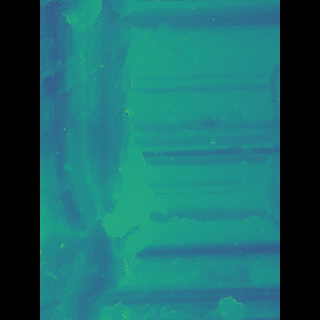Loch: (68, 0, 159, 320), (130, 214, 249, 270), (221, 37, 250, 245), (225, 256, 250, 290), (203, 294, 222, 320)
